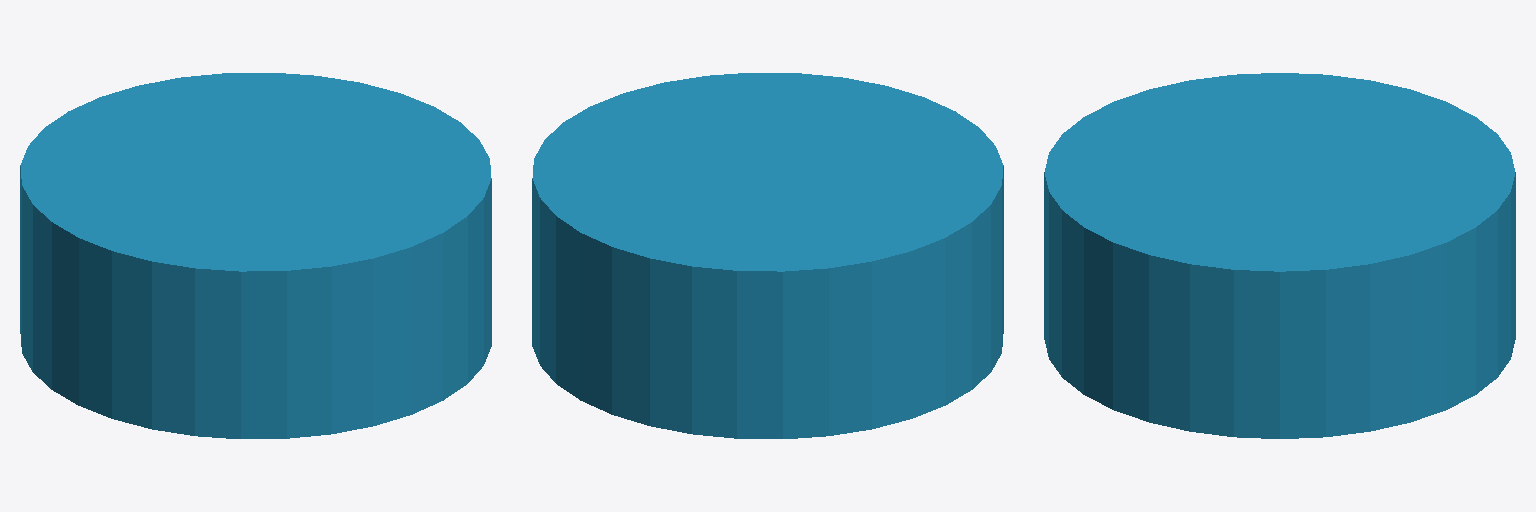
URDF robot description (cube):
<?xml version="1.0"?>
 <robot name="cube">
   <material name="blue">
     <color rgba="0.2 0.63137 0.788 1"/>
   </material>
   
   <material name="qw">
     <color rgba="0.062 0.16 0.21343700408935547 1"/>
   </material>
   
   
   <link name="base_link">
     <visual>
       <geometry>
         <cylinder length="0.03429" radius="0.043688"/>
       </geometry>
       <origin xyz="0 0 0" rpy="0 0 0"/>
       <material name="blue"/>
     </visual>
     <inertial>
       <mass value="0"/>
       <inertia ixx="1.0" ixy="0.0" ixz="0.0" iyy="1.0" iyz="0.0" izz="1.0"/>
     </inertial>
   </link>
 </robot>

--- Facts derived from the render (not from the file) ---
3 views of the same robot in one strip: view 1: azimuth 30°, elevation 25°; view 2: azimuth 150°, elevation 25°; view 3: azimuth 270°, elevation 25° (orthographic).
Model cube with 1 links and 0 joints (none), rooted at base_link, posed all joints at 0.
Links seen in each view (by area): view 1: base_link; view 2: base_link; view 3: base_link.
Boxes of the visible links, left/top/right/bottom form: base_link: left=20, top=73, right=491, bottom=438; base_link: left=532, top=73, right=1003, bottom=438; base_link: left=1044, top=73, right=1515, bottom=438.
Size in the robot's own frame: 0.0874 by 0.0874 by 0.0343 metres.
Geometry: primitives only (box / cylinder / sphere), no mesh files.